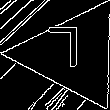L_S: (54, 29, 91, 80)
